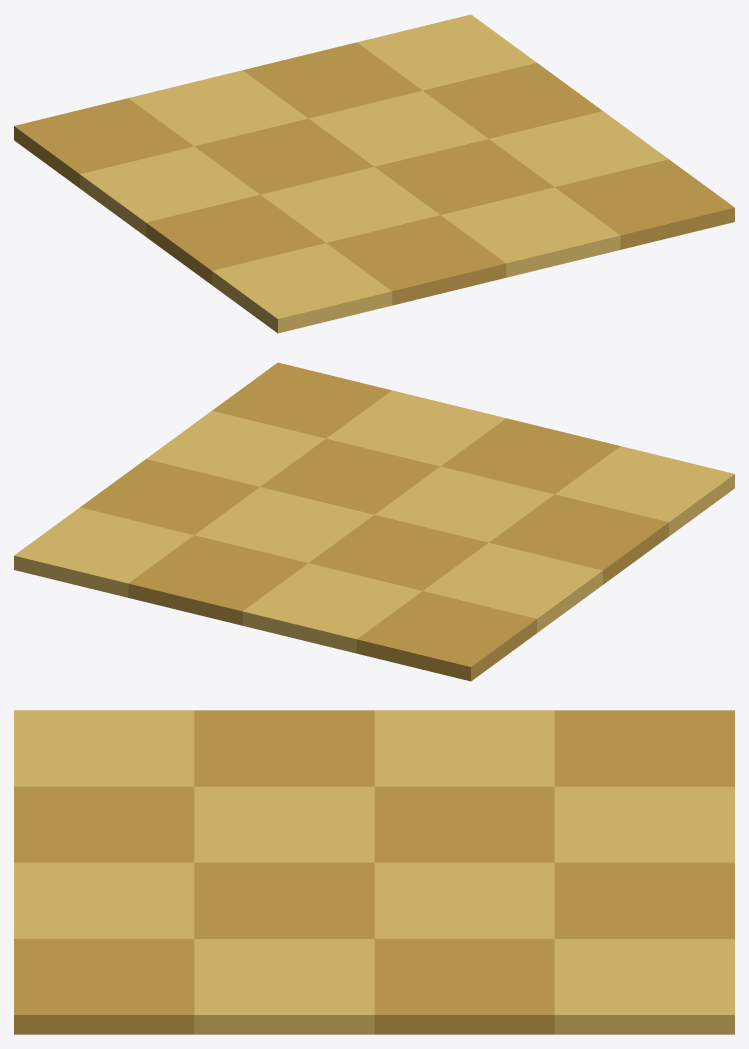
The model's file is floor.glb.
3 views of the same model, one above another, from view 1: azimuth 30°, elevation 25°; view 2: azimuth 150°, elevation 25°; view 3: azimuth 270°, elevation 25° (orthographic). The views are drawn at different scales.
Visible parts, largest first — view 1: floor; view 2: floor; view 3: floor.
Boxes of the visible parts, x1,y1,x2,y2 form: floor: (14, 14, 734, 333); floor: (14, 362, 734, 681); floor: (14, 710, 734, 1034).
Size of the model in its own units: 1 by 0.03 by 1.
Materials: 1 (1 with a texture image).
